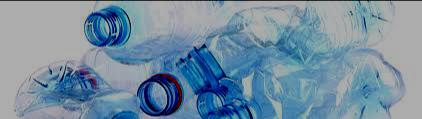Plastic: (84, 2, 309, 67), (193, 56, 415, 116), (6, 56, 143, 118), (144, 54, 239, 114)
